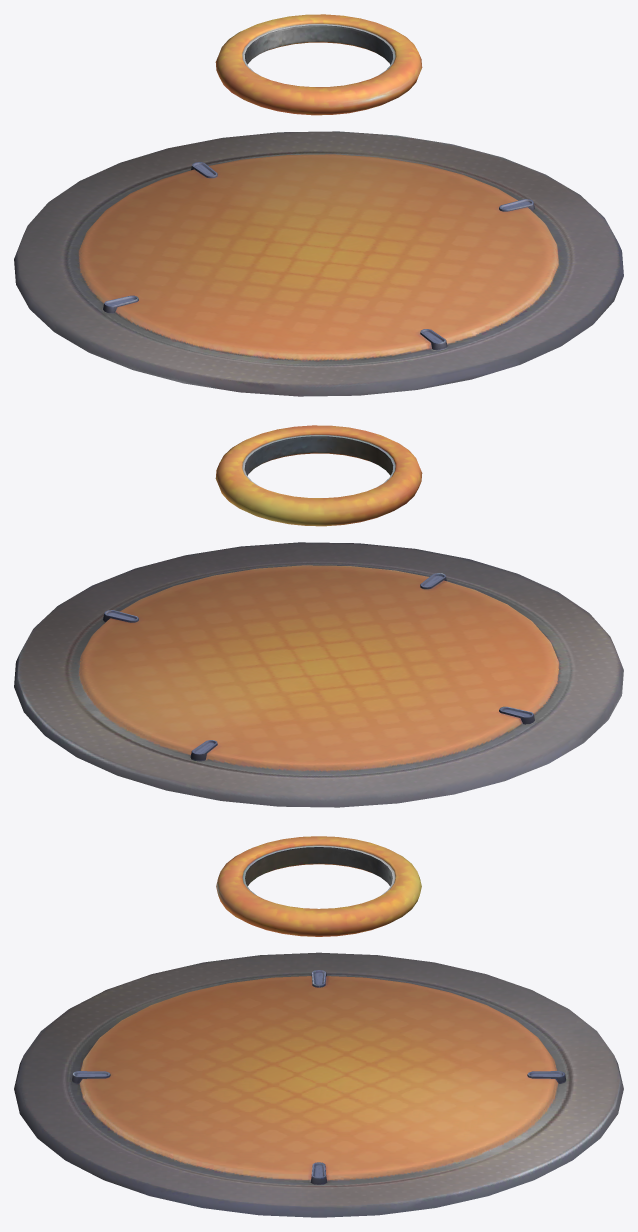
Rendered from pref_TPC_v2_NeutralScoreArea03_orange_idle_lv1.fbx.
3 renders of one model, top to bottom at view 1: azimuth 30°, elevation 25°; view 2: azimuth 150°, elevation 25°; view 3: azimuth 270°, elevation 25°, orthographic.
Parts seen in each view (by area): view 1: sm_prop_platform06a_lv1, sm_prop_platform06b_lv1; view 2: sm_prop_platform06a_lv1, sm_prop_platform06b_lv1; view 3: sm_prop_platform06a_lv1, sm_prop_platform06b_lv1.
Part boxes in pixels (<box>): sm_prop_platform06a_lv1: <box>14,131,623,396</box>; sm_prop_platform06b_lv1: <box>215,14,422,115</box>; sm_prop_platform06a_lv1: <box>14,542,623,807</box>; sm_prop_platform06b_lv1: <box>215,425,422,526</box>; sm_prop_platform06a_lv1: <box>14,952,623,1217</box>; sm_prop_platform06b_lv1: <box>216,836,421,936</box>.
Bounding box in the file's own units: 7.46 × 2.88 × 7.46.
Materials: 2 (2 with a texture image).
